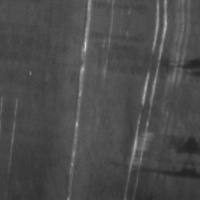inclusion: (130, 155, 190, 181), (147, 50, 199, 77), (156, 134, 192, 156)
scratches: (120, 24, 166, 199), (58, 18, 94, 199)
